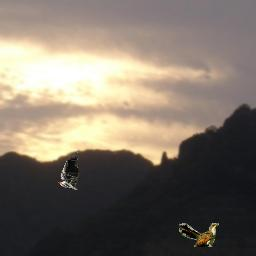Cuckoo: (179, 223, 219, 247)
Woodpecker: (57, 150, 79, 190)
